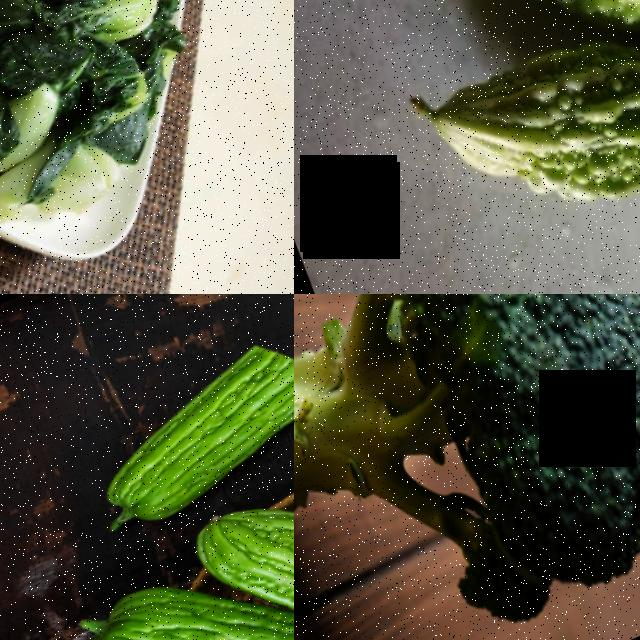bitter gourd: (21, 295, 294, 561), (415, 9, 640, 294), (376, 0, 640, 113), (28, 571, 294, 640), (204, 466, 294, 620)
broccoli: (294, 294, 640, 640)
